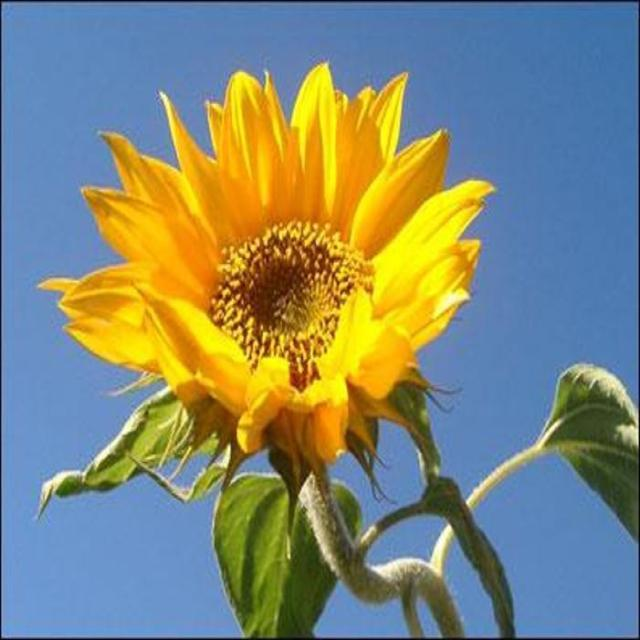sunflower: (34, 55, 504, 485)
